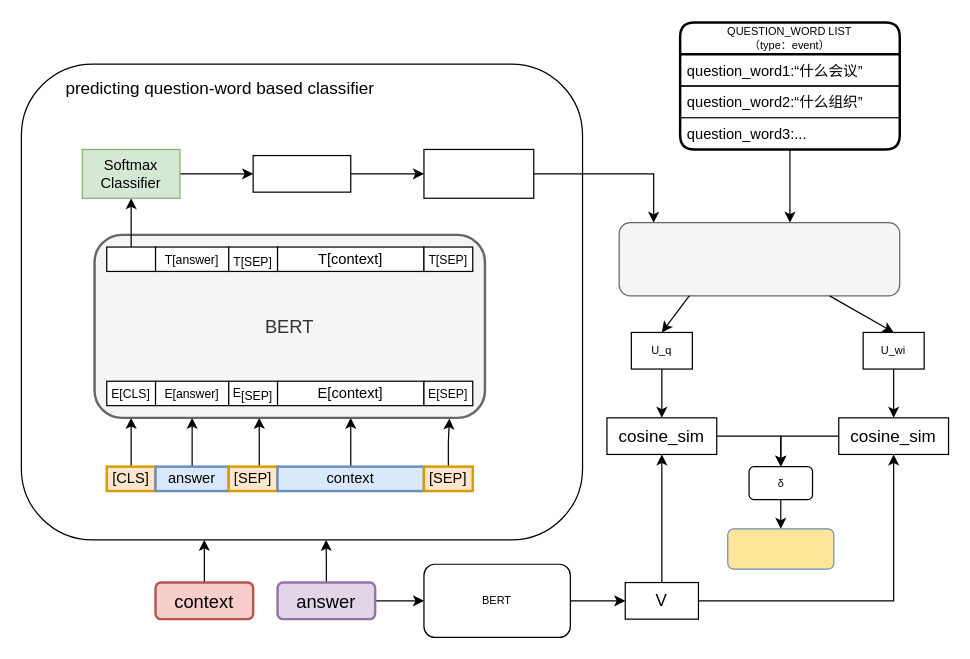
Image size: 970x659. Some labels were removed from this diagram. Each missing label, with the centre of its shape:
label: (301,173)
question-word: (478,173)
question_word: (780,548)
SBERT: (759,258)
T[CLS]: (131,258)
